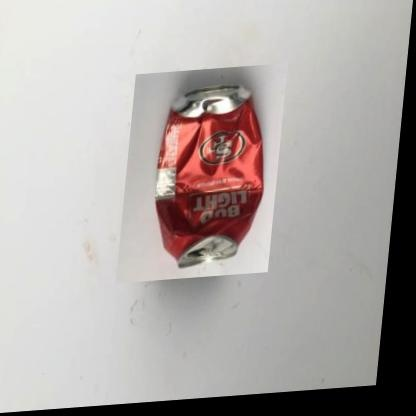trash: (155, 85, 263, 267)
